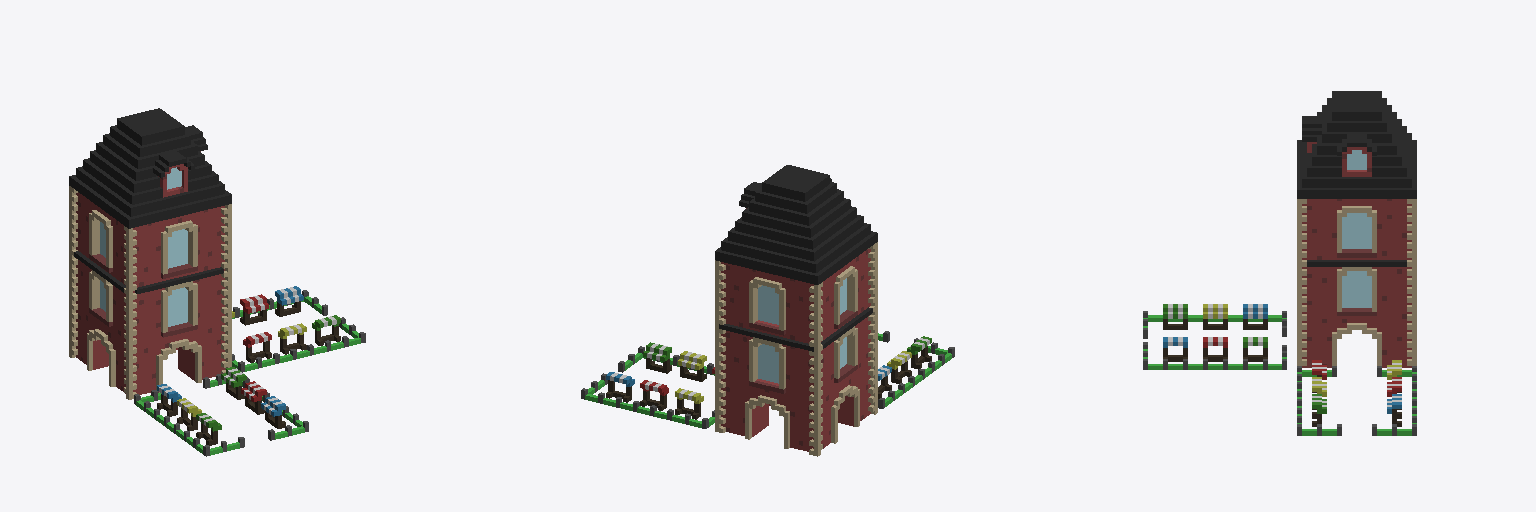
3 views of the same model, side by side, from view 1: azimuth 30°, elevation 25°; view 2: azimuth 150°, elevation 25°; view 3: azimuth 270°, elevation 25° (orthographic).
Visible parts, largest first — view 1: Dutch_Corner; view 2: Dutch_Corner; view 3: Dutch_Corner.
Boxes of the visible parts, x1,y1,x2,y2 form: Dutch_Corner: [69, 108, 365, 456]; Dutch_Corner: [581, 165, 954, 456]; Dutch_Corner: [1143, 91, 1416, 435].
Size of the model in its own units: 55 by 54 by 55.
Materials: 1 (1 with a texture image).